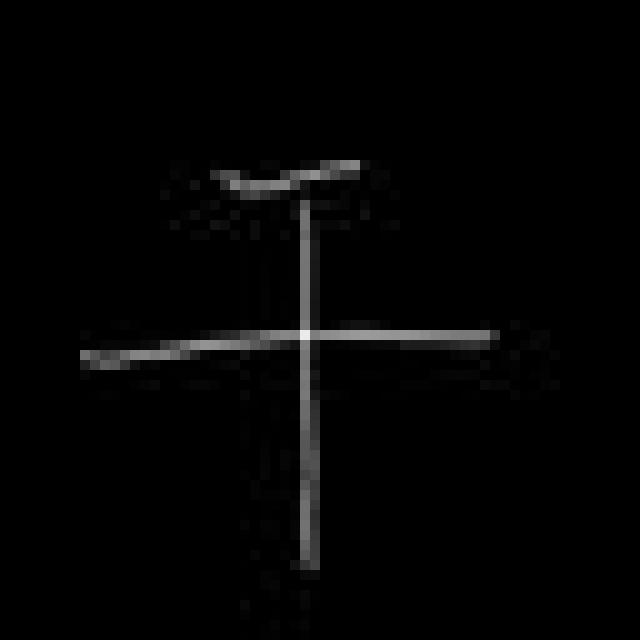1000 -a thousand-: (61, 135, 508, 581)
